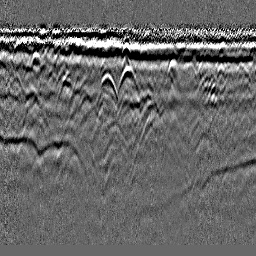cavity: (117, 64, 140, 94)
